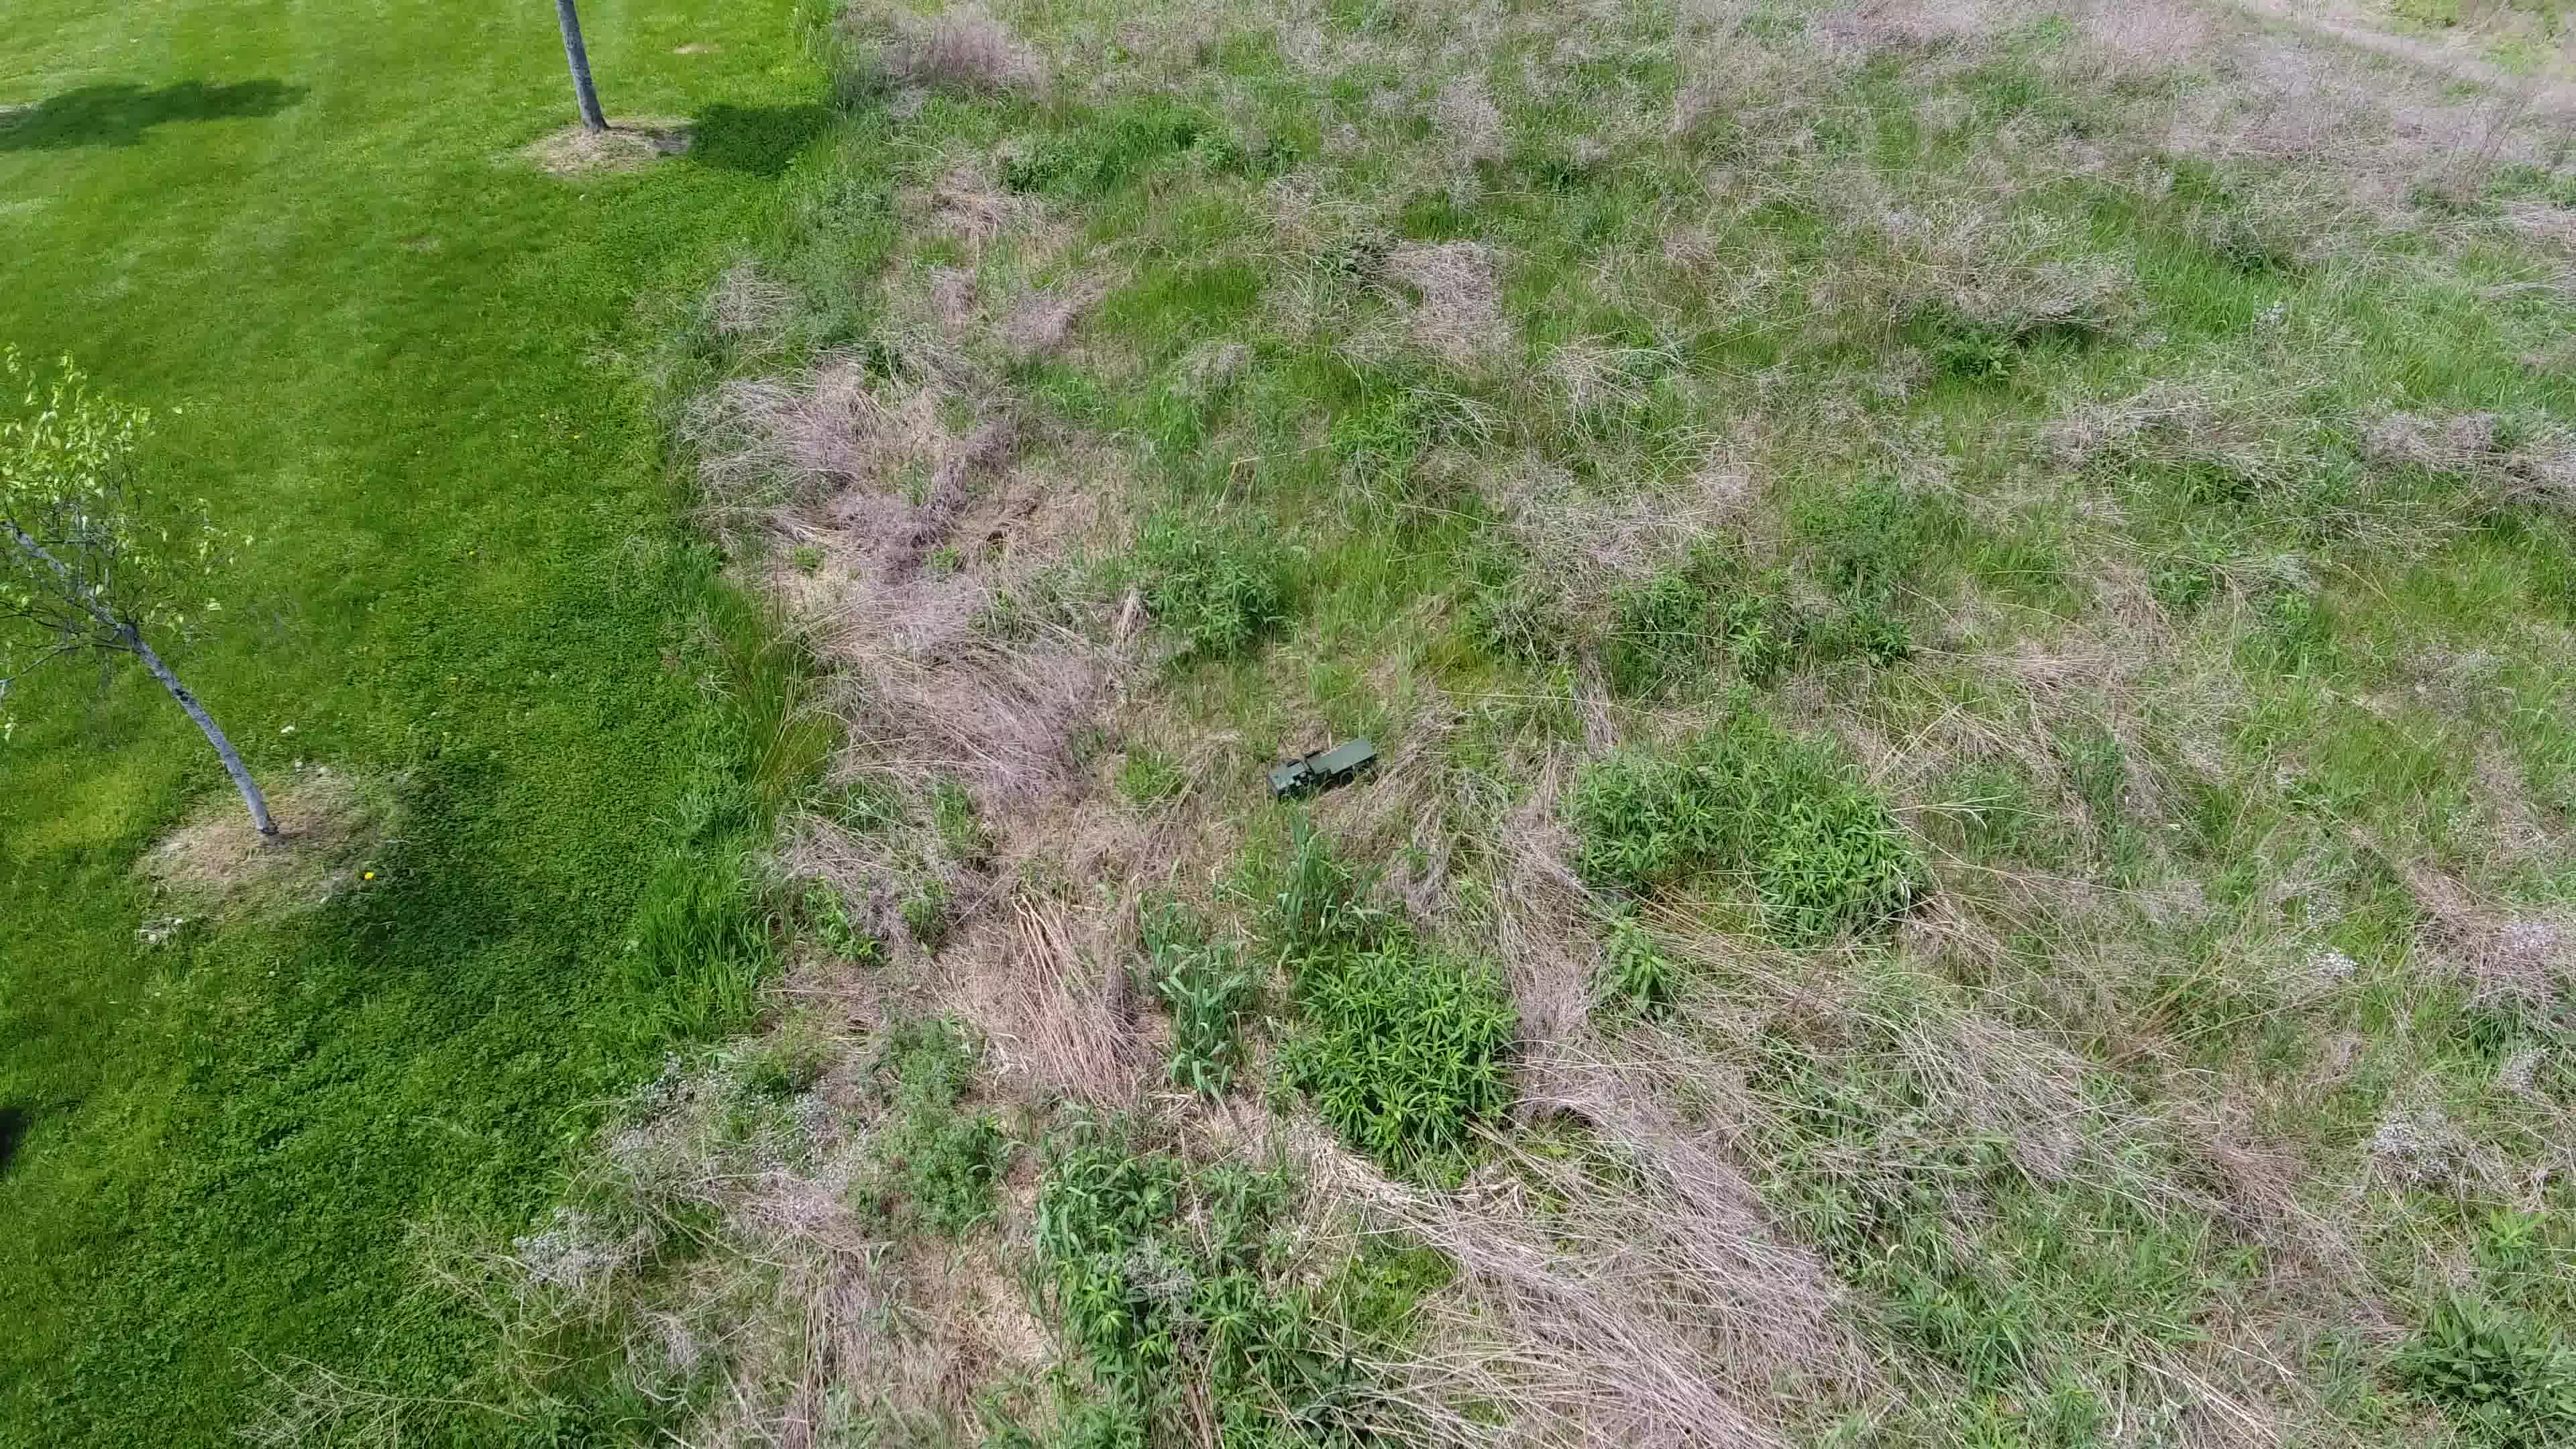transporter9: (1263, 724, 1380, 807)
